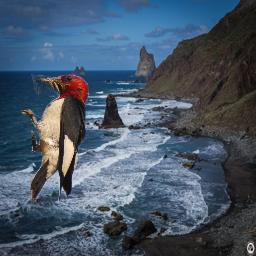Woodpecker: (21, 74, 89, 204)
